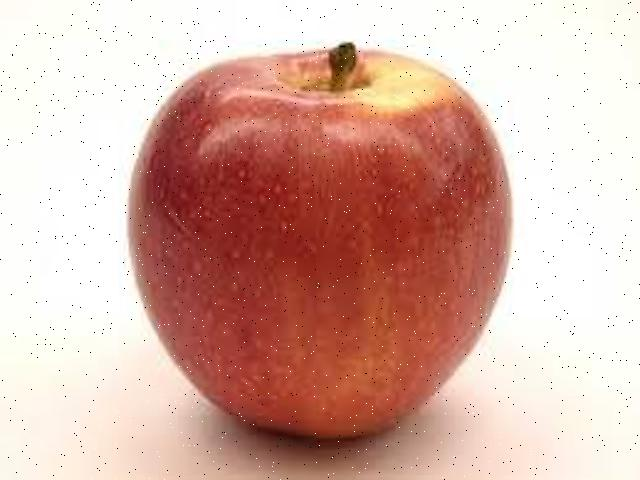apple: (120, 35, 519, 447)
